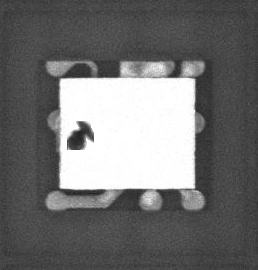DIE_INK: (64, 127, 89, 156)
